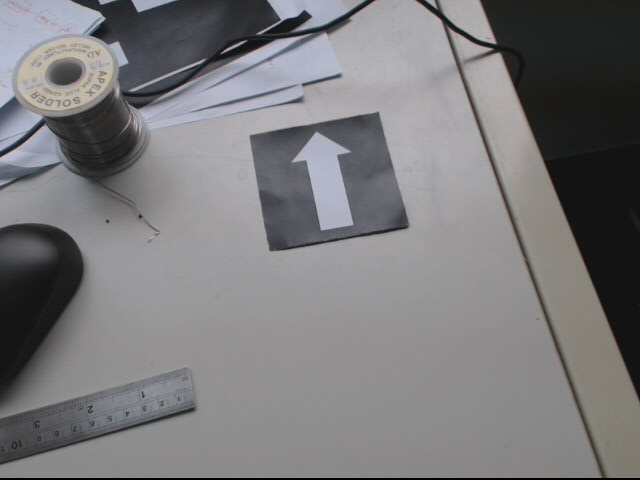straight: (249, 112, 407, 252)
